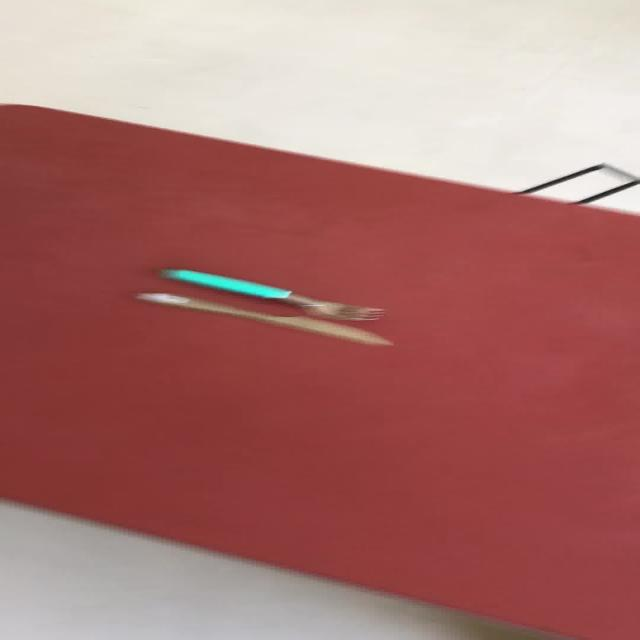fork: (132, 291, 392, 346), (157, 267, 386, 321)
knife fork: (132, 290, 392, 346), (157, 267, 386, 321)
